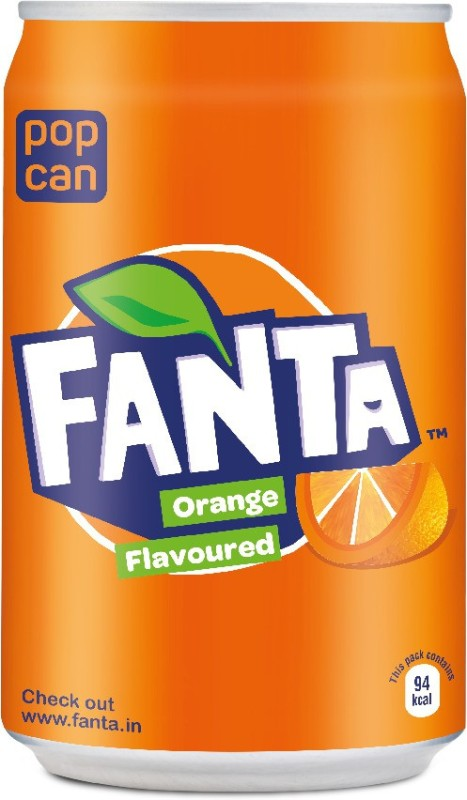fanta_can: (1, 1, 467, 793)
